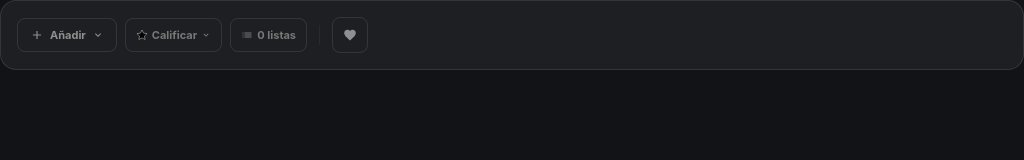
Test case: AnimeTrackingSection › shows an error banner when adding a status fails (e.g. rate limited)
Step 1. Click the button "Añadir" → [67, 35], box [17,18,117,52]
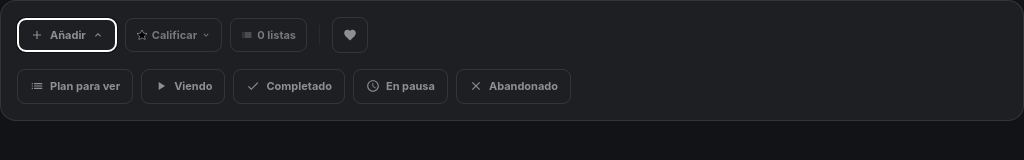
Step 2. Click the button "Viendo" → [183, 86], box [141,69,225,104]
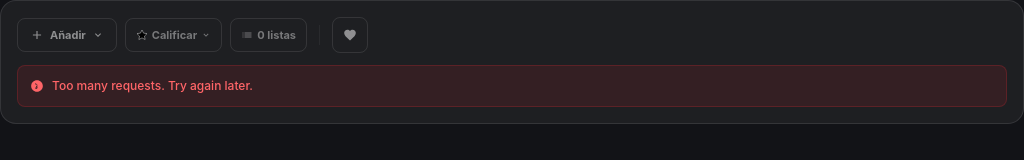
Expected: the text "Too many requests. Try again later." is shown, [17,65,1007,107]
